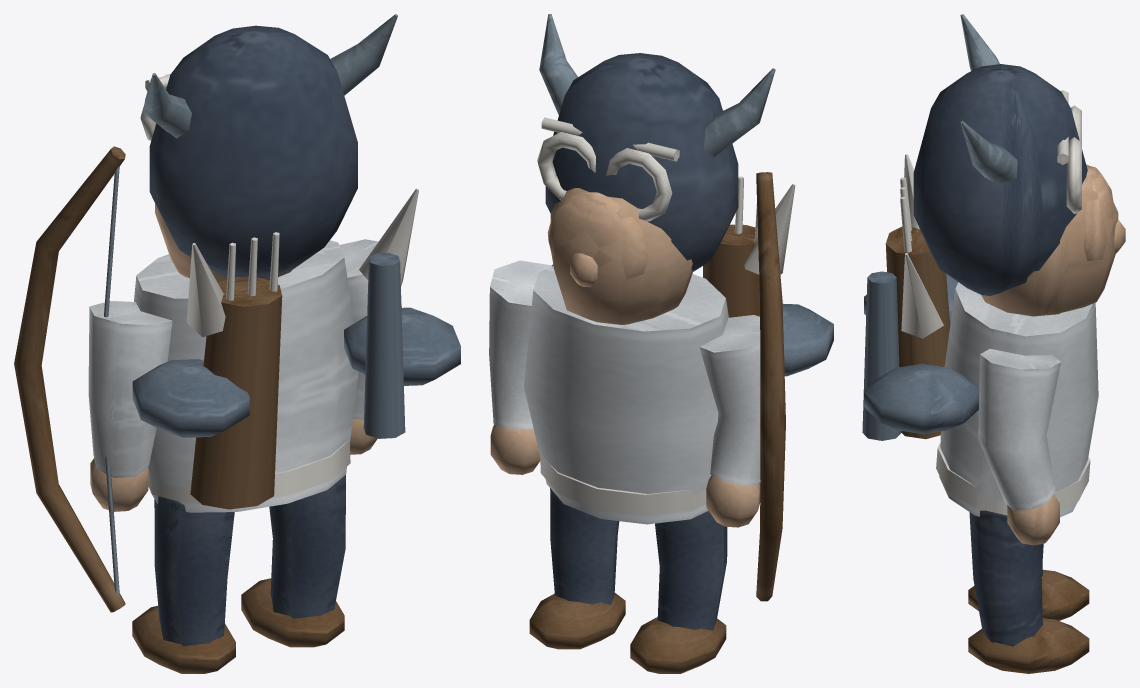
File: archer.glb
The picture shows the model from 3 angles, left to right: view 1: azimuth 30°, elevation 25°; view 2: azimuth 150°, elevation 25°; view 3: azimuth 270°, elevation 25°; orthographic projection. The views are drawn at different scales.
Visible parts, largest first — view 1: Body, FactionBrute, Tool, LegL, ArmL, LegR, FactionIndustrial, FactionArcane, ArmR; view 2: Body, LegL, ArmL, LegR, Tool, ArmR, FactionBrute, FactionIndustrial, FactionArcane; view 3: Body, ArmR, LegR, FactionBrute, FactionIndustrial, FactionArcane, LegL.
Part boxes in pixels (x1,y1,x2,y2): Body: (134, 25, 358, 512); FactionBrute: (132, 14, 460, 437); Tool: (14, 146, 125, 612); LegL: (132, 496, 235, 673); ArmL: (88, 301, 172, 511); LegR: (241, 475, 345, 647); FactionIndustrial: (140, 73, 405, 438); FactionArcane: (186, 188, 418, 337); ArmR: (339, 239, 401, 454); Body: (524, 53, 759, 524); LegL: (630, 511, 727, 673); ArmL: (699, 315, 760, 527); LegR: (529, 488, 625, 649); Tool: (756, 172, 785, 601); ArmR: (489, 260, 552, 474); FactionBrute: (539, 14, 833, 376); FactionIndustrial: (537, 117, 679, 221); FactionArcane: (744, 184, 795, 274); Body: (885, 64, 1125, 517); ArmR: (978, 349, 1060, 545); LegR: (968, 510, 1089, 673); FactionBrute: (864, 14, 1017, 434); FactionIndustrial: (862, 90, 1081, 440); FactionArcane: (901, 154, 943, 338); LegL: (968, 564, 1089, 620).
Bounding box in the file's own units: 0.2142 × 0.37 × 0.1533.
Materials: 7 (7 with a texture image).
